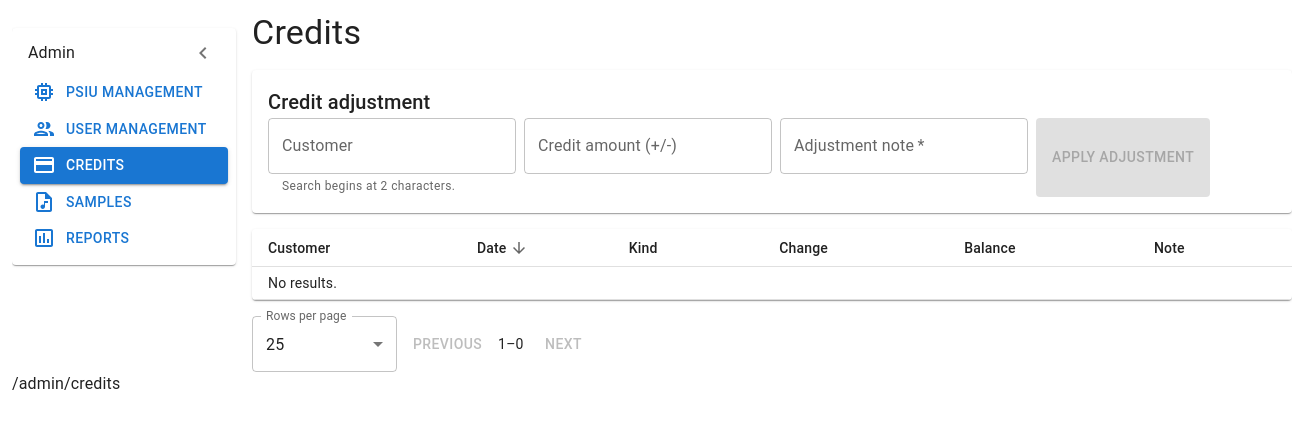
Test: administrator directory tables › ignores stale typeahead responses and errors after the query changes
Type "al" into the dropdown labelled "Customer" at {"x": 392, "y": 146}, box x1=268 y1=118 x2=516 y2=174
Wait 250 ms
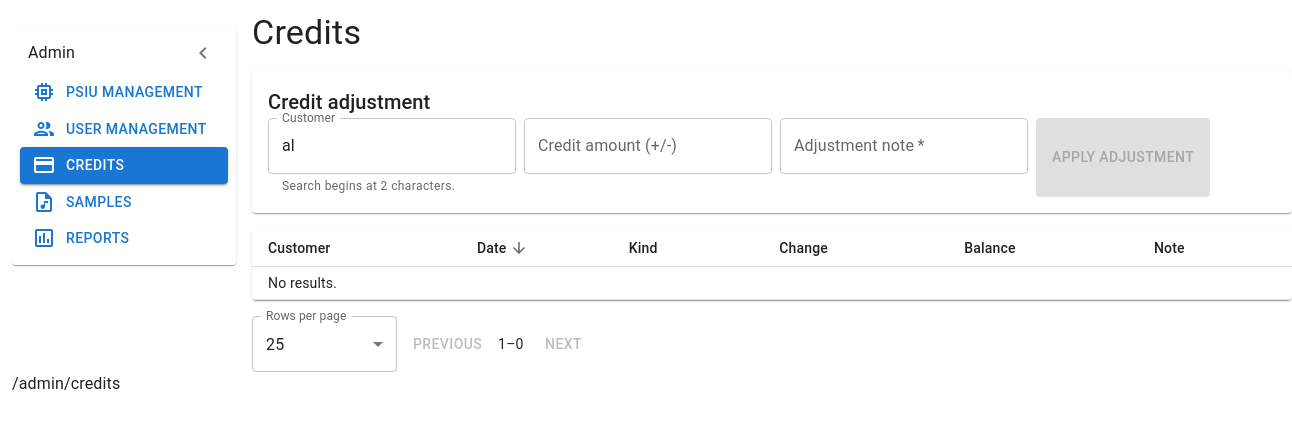
Replace the text in the dropdown labelled "Customer" with "be" at {"x": 392, "y": 146}, box x1=268 y1=118 x2=516 y2=174
Wait 250 ms
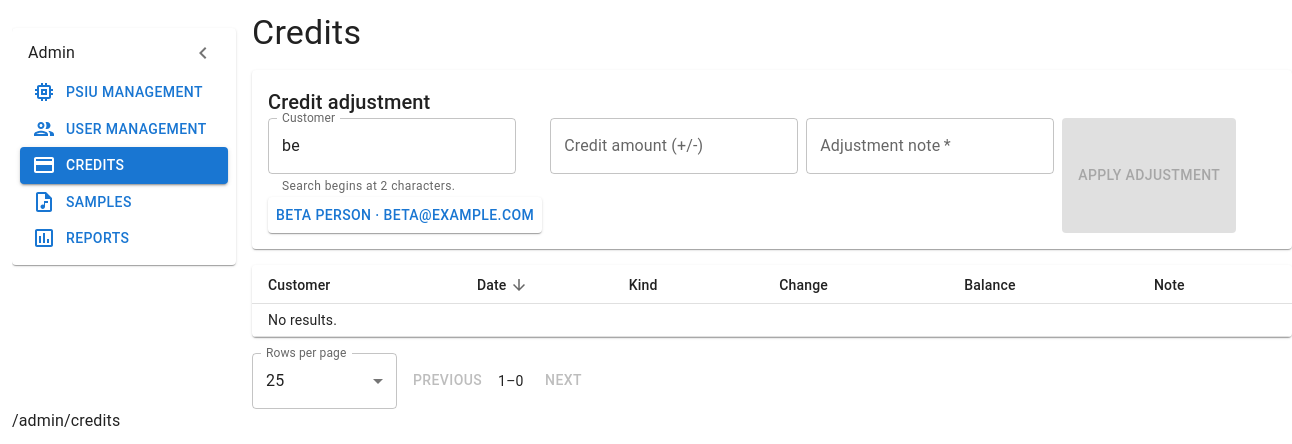
Expected: the option "Beta Person · beta@example.com" is shown, x1=268 y1=197 x2=542 y2=233
